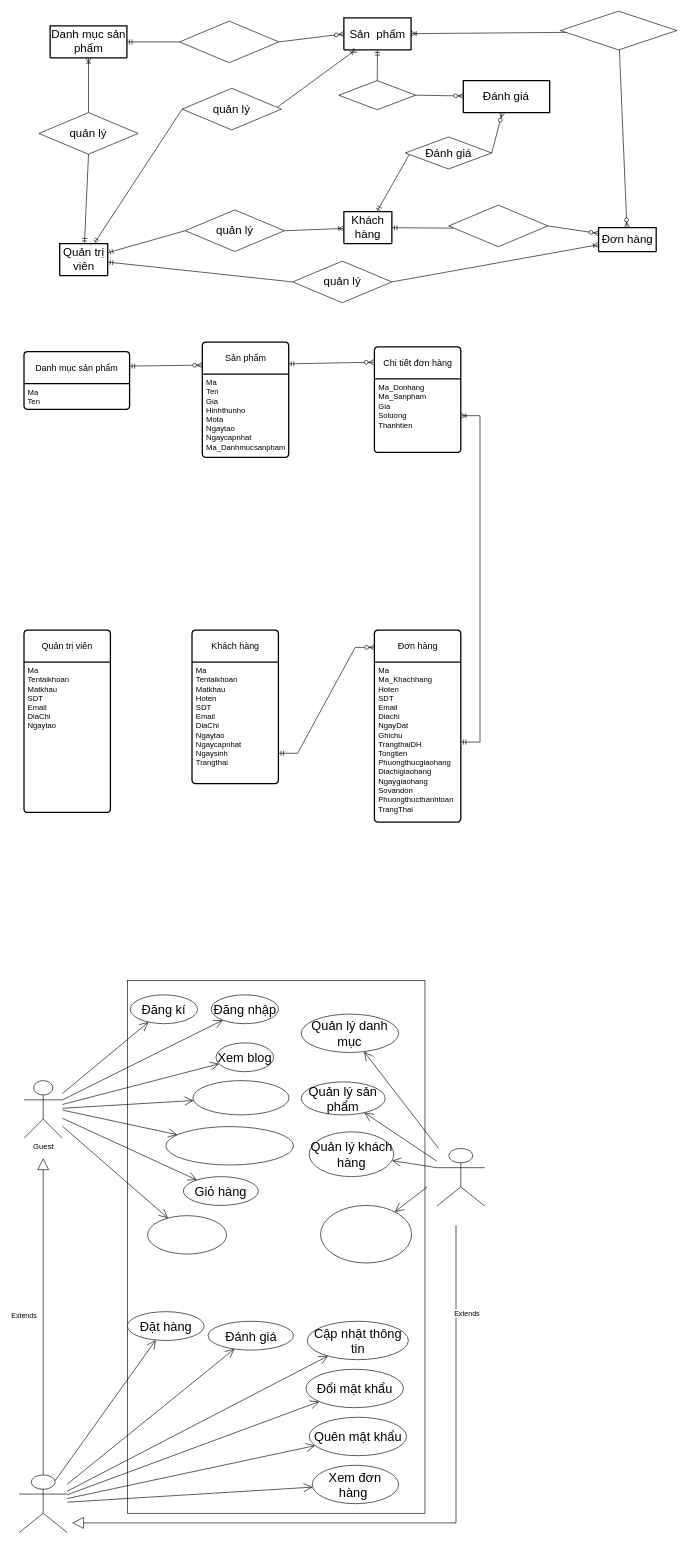
Image size: 688x1557. Some labels were removed from this diagram. The centre of each missing label's shape, as x and y in pixels:
ADMIN: point 460,1177
có: point 377,95
Có chi tiết đơn hàng: point 618,30
gồm: point 229,41
Quản lý đơn hàng: point 366,1234
Sản phẩm yêu thích: point 187,1234
Tìm kiếm sản phẩn: point 240,1097
USER: point 43,1503
Xem chi tiết sản phẩm: point 229,1145
Đặt: point 498,225
